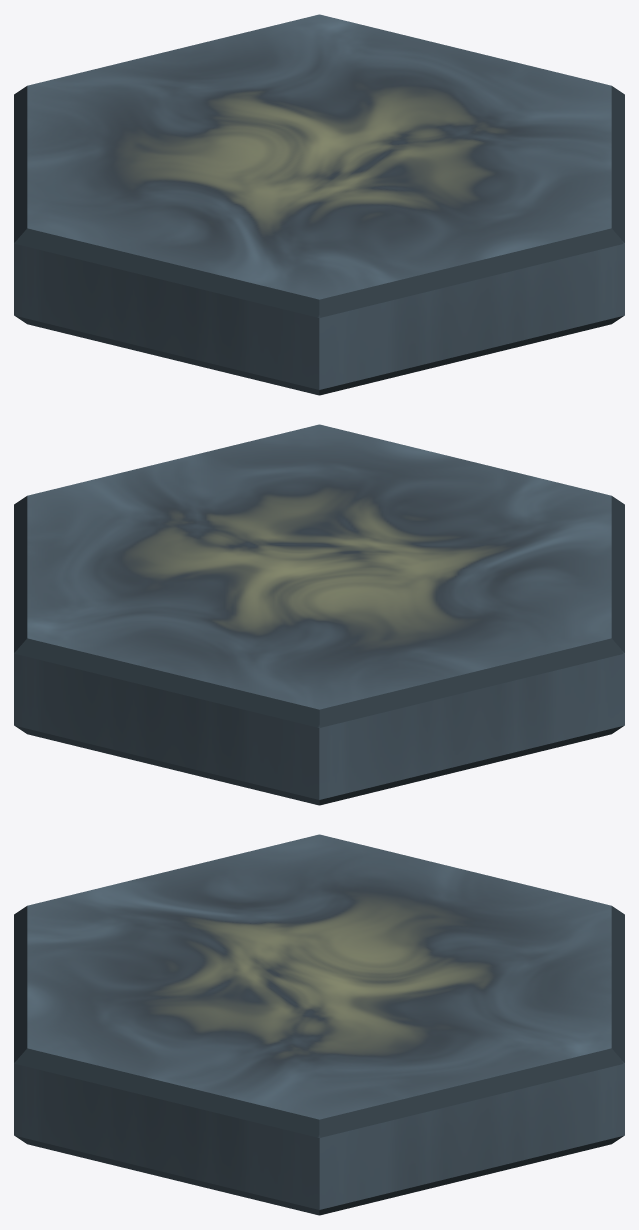
Rendered from basic_tile.glb.
The picture shows the model from 3 angles, top to bottom: view 1: azimuth 30°, elevation 25°; view 2: azimuth 150°, elevation 25°; view 3: azimuth 270°, elevation 25°; orthographic projection.
Visible parts, largest first — view 1: BasicTile; view 2: BasicTile; view 3: BasicTile.
Boxes of the visible parts, left/top/right/bottom form: BasicTile: left=14, top=14, right=624, bottom=395; BasicTile: left=14, top=424, right=624, bottom=805; BasicTile: left=14, top=834, right=624, bottom=1215.
Bounding box in the file's own units: 2 × 0.3 × 1.73.
Materials: 1 (1 with a texture image).
